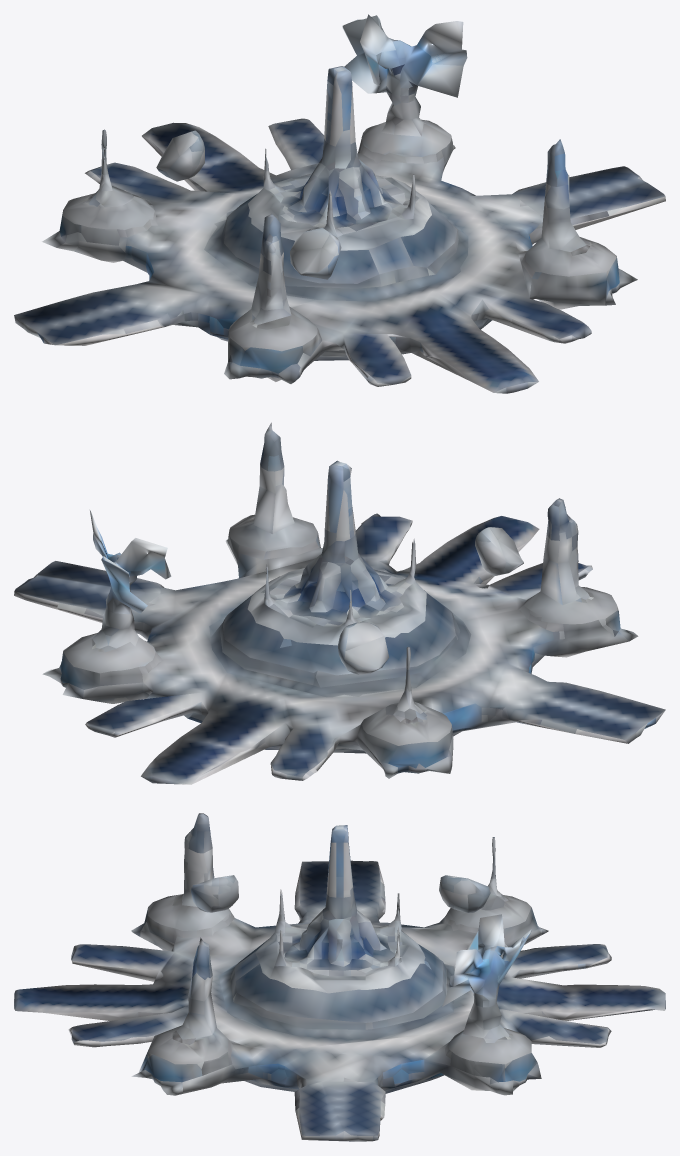
File: alliance_research_outpost_lod2.glb
The picture shows the model from 3 angles, top to bottom: view 1: azimuth 30°, elevation 25°; view 2: azimuth 150°, elevation 25°; view 3: azimuth 270°, elevation 25°; orthographic projection. The views are drawn at different scales.
Parts seen in each view (by area): view 1: model; view 2: model; view 3: model.
Boxes of the visible parts, x1,y1,x2,y2 form: model: (14, 14, 665, 393); model: (14, 422, 665, 784); model: (14, 813, 665, 1141).
Bounding box in the file's own units: 1.87 × 0.7618 × 1.88.
1 material, 1 textured.
